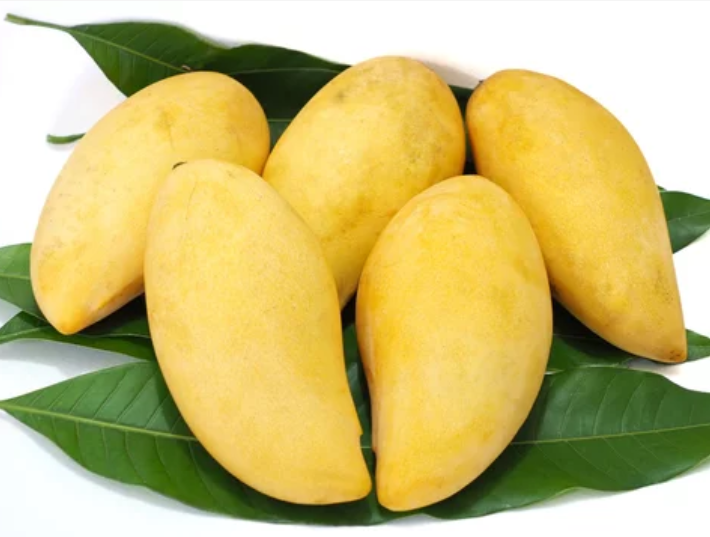mango: (138, 154, 374, 513), (353, 171, 555, 517), (464, 64, 690, 369)
